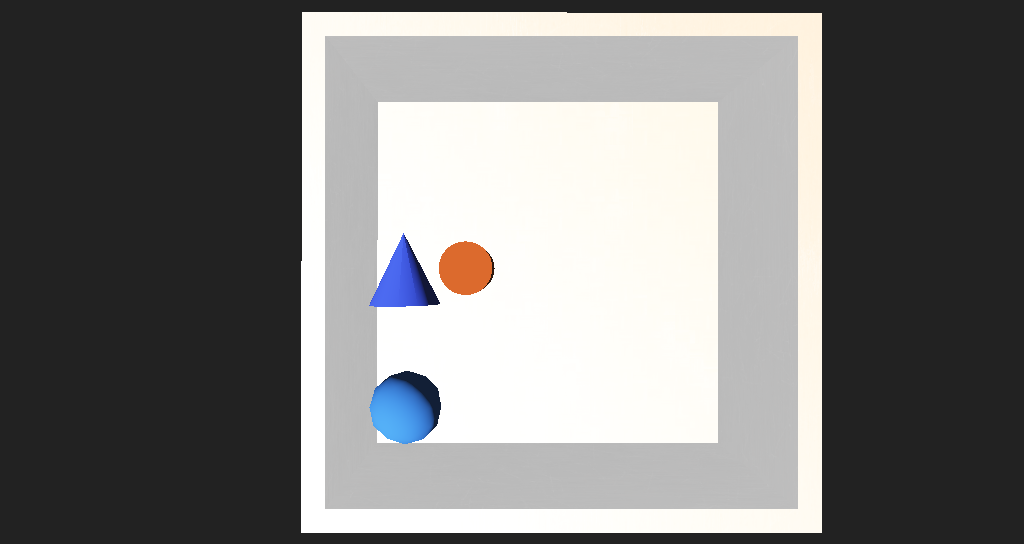cone: (404, 251, 458, 284)
cylinder: (344, 243, 411, 291)
sphere: (344, 332, 411, 375)
